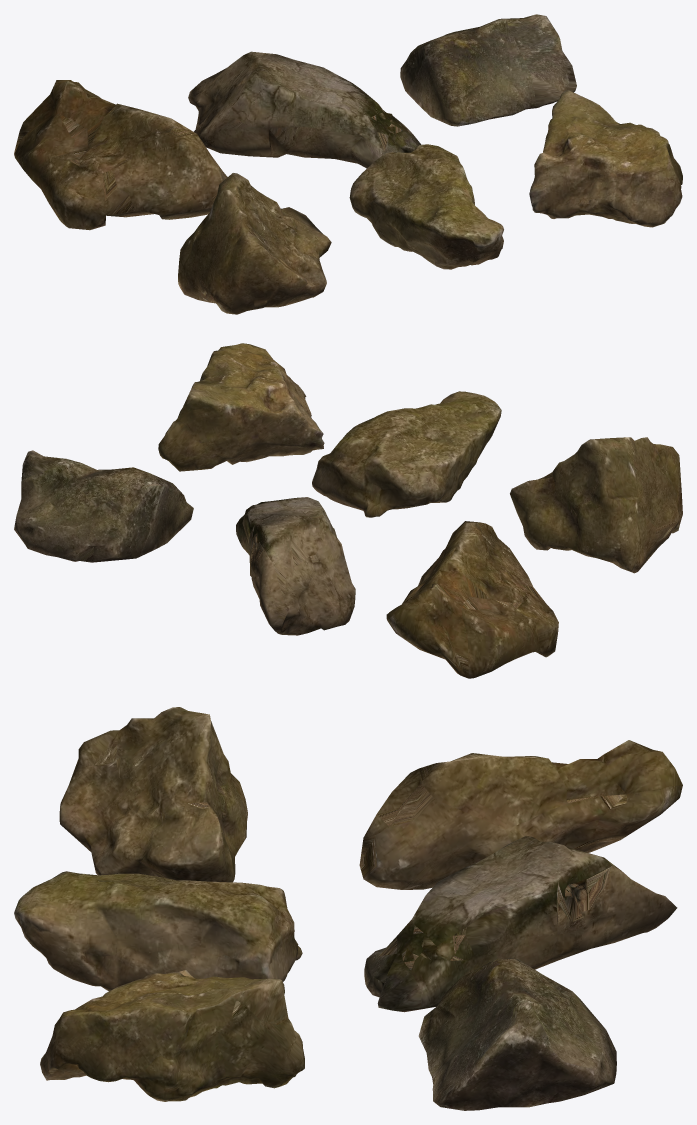
File: rock_moss_set_01.glb
The picture shows the model from 3 angles, top to bottom: view 1: azimuth 30°, elevation 25°; view 2: azimuth 150°, elevation 25°; view 3: azimuth 270°, elevation 25°; orthographic projection. The views are drawn at different scales.
Visible parts, largest first — view 1: rock_moss_set_01_rock01, rock_moss_set_01_rock02, rock_moss_set_01_rock06, rock_moss_set_01_rock04, rock_moss_set_01_rock03, rock_moss_set_01_rock05; view 2: rock_moss_set_01_rock04, rock_moss_set_01_rock01, rock_moss_set_01_rock05, rock_moss_set_01_rock03, rock_moss_set_01_rock06, rock_moss_set_01_rock02; view 3: rock_moss_set_01_rock01, rock_moss_set_01_rock02, rock_moss_set_01_rock05, rock_moss_set_01_rock06, rock_moss_set_01_rock04, rock_moss_set_01_rock03.
Boxes of the visible parts, x1,y1,x2,y2 form: rock_moss_set_01_rock01: (14, 80, 227, 230); rock_moss_set_01_rock02: (188, 51, 421, 168); rock_moss_set_01_rock06: (529, 90, 682, 227); rock_moss_set_01_rock04: (178, 173, 331, 314); rock_moss_set_01_rock03: (400, 14, 576, 126); rock_moss_set_01_rock05: (349, 144, 503, 269); rock_moss_set_01_rock04: (510, 437, 682, 573); rock_moss_set_01_rock01: (386, 521, 558, 678); rock_moss_set_01_rock05: (312, 391, 501, 517); rock_moss_set_01_rock03: (14, 450, 193, 562); rock_moss_set_01_rock06: (158, 343, 324, 471); rock_moss_set_01_rock02: (236, 497, 355, 635); rock_moss_set_01_rock01: (359, 740, 682, 889); rock_moss_set_01_rock02: (364, 836, 677, 1012); rock_moss_set_01_rock05: (14, 871, 302, 991); rock_moss_set_01_rock06: (40, 970, 304, 1101); rock_moss_set_01_rock04: (59, 707, 247, 882); rock_moss_set_01_rock03: (418, 958, 616, 1110).
Size of the model in its own units: 8 by 1.76 by 6.95.
Materials: 1 (1 with a texture image).
